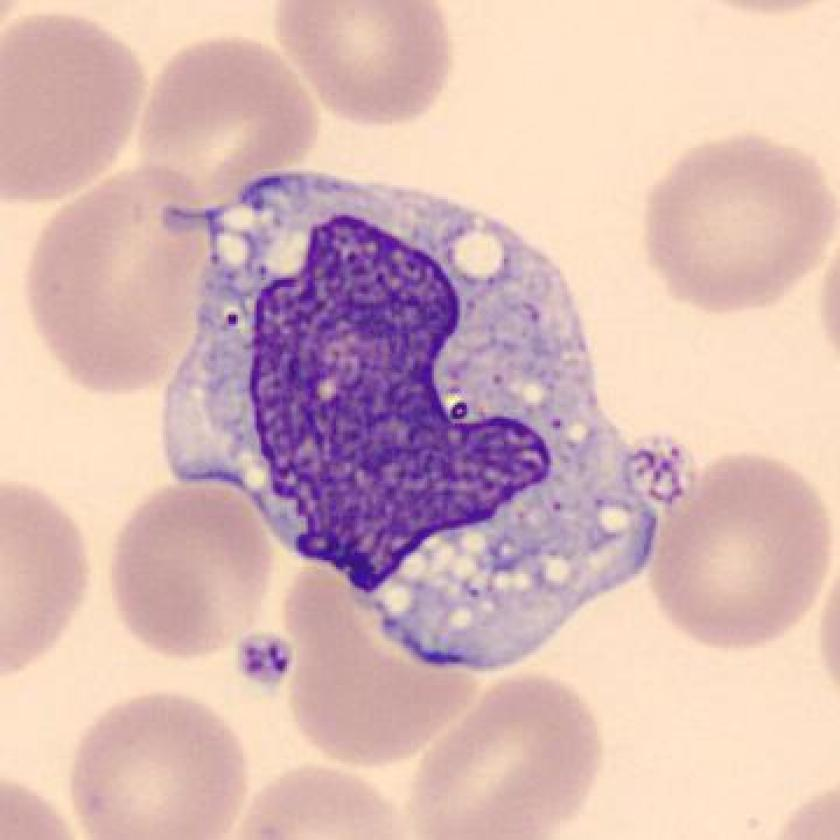monocyte: (141, 142, 682, 693)
